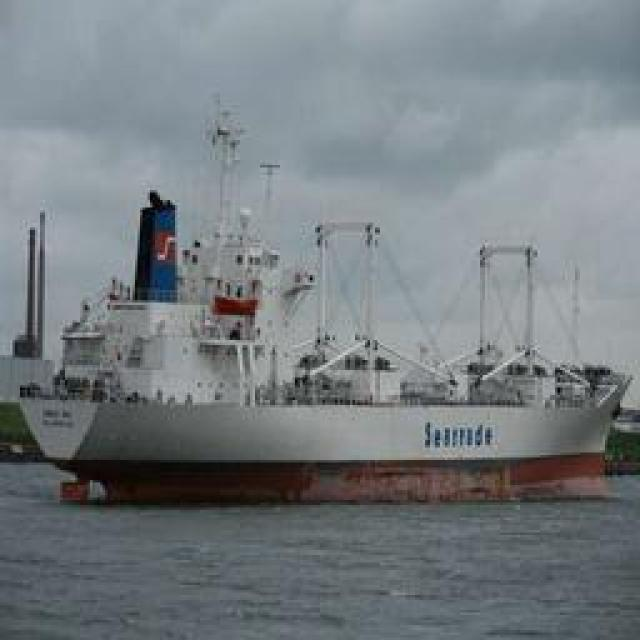ship2: (18, 102, 632, 504)
